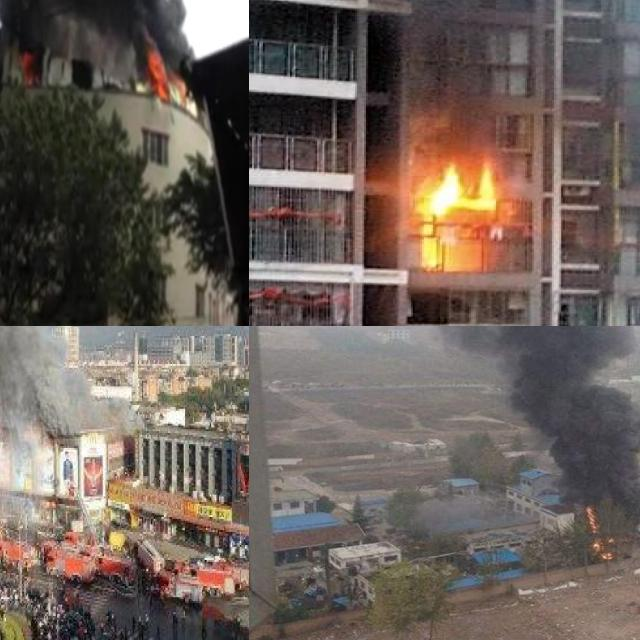fire: (411, 160, 498, 258), (145, 46, 189, 104), (581, 506, 614, 560), (20, 47, 38, 83)
smoke: (249, 326, 640, 531), (389, 0, 508, 151), (0, 0, 199, 70)
